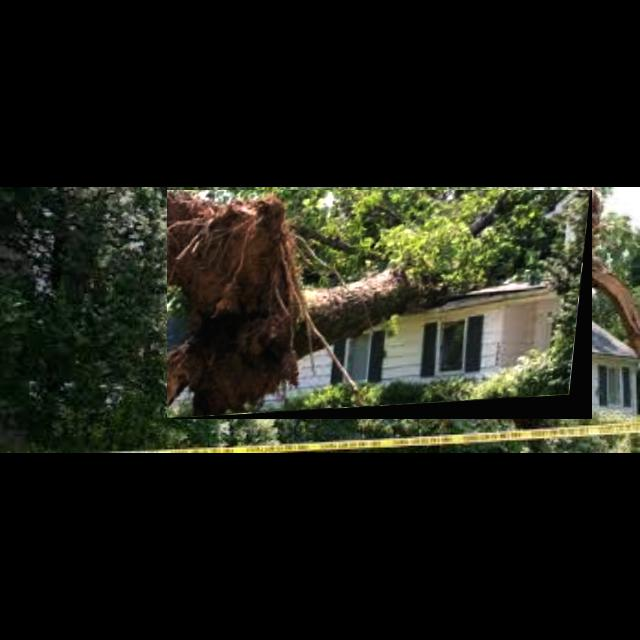Fallen Tree: (167, 190, 593, 420)
